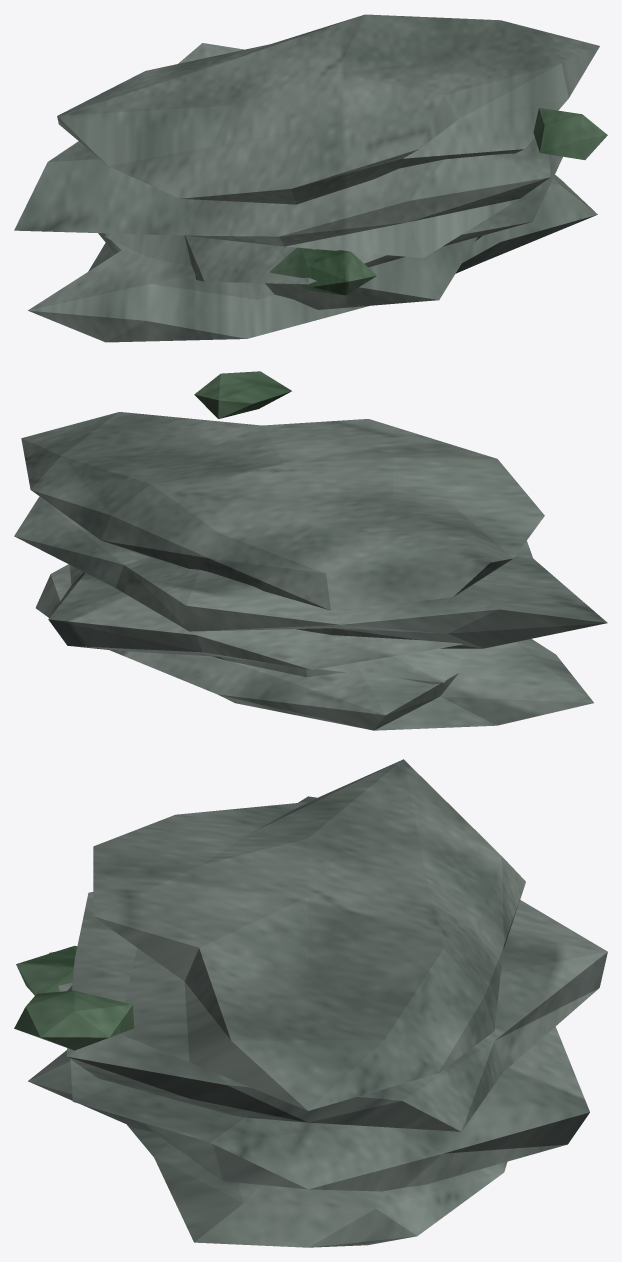
File: 0031_layered_rock_06.glb
3 views of the same model, one above another, from view 1: azimuth 30°, elevation 25°; view 2: azimuth 150°, elevation 25°; view 3: azimuth 270°, elevation 25° (orthographic). The views are drawn at different scales.
Visible parts, largest first — view 1: stone, moss; view 2: stone, moss; view 3: stone, moss.
Boxes of the visible parts, left/top/right/bottom form: stone: left=14, top=14, right=599, bottom=342; moss: left=270, top=107, right=607, bottom=295; stone: left=14, top=412, right=607, bottom=730; moss: left=194, top=371, right=291, bottom=418; stone: left=28, top=759, right=607, bottom=1247; moss: left=14, top=945, right=133, bottom=1050.
Size of the model in its own units: 2.35 by 0.7528 by 1.6.
Materials: 2 (2 with a texture image).
